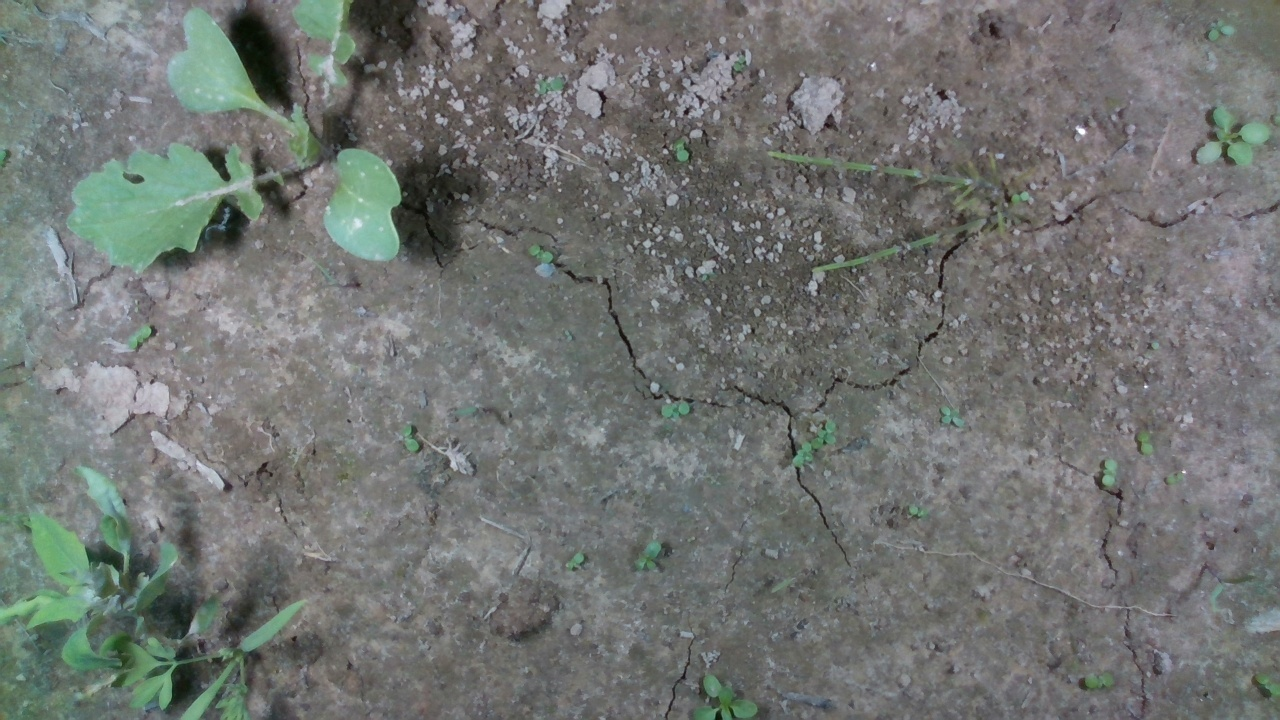weed: (934, 396, 972, 434), (524, 239, 561, 269), (655, 397, 690, 427), (394, 421, 421, 457), (1097, 454, 1119, 493), (1132, 427, 1154, 465), (665, 135, 691, 166), (537, 76, 568, 97), (564, 548, 586, 576), (641, 540, 657, 578)
